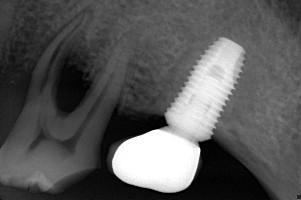Endo-Periodontal Lesion: (56, 29, 109, 112)
